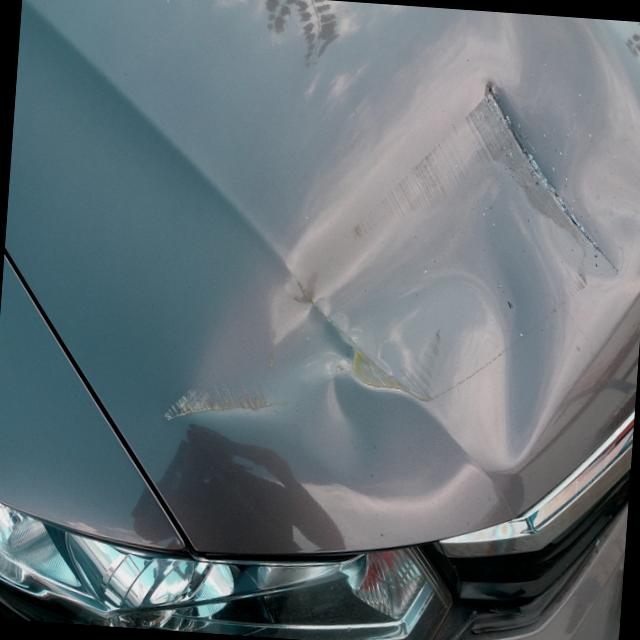Cabossage: (252, 70, 606, 470)
Rayure: (472, 81, 629, 281), (336, 83, 502, 266), (425, 267, 588, 417), (154, 371, 290, 446)
